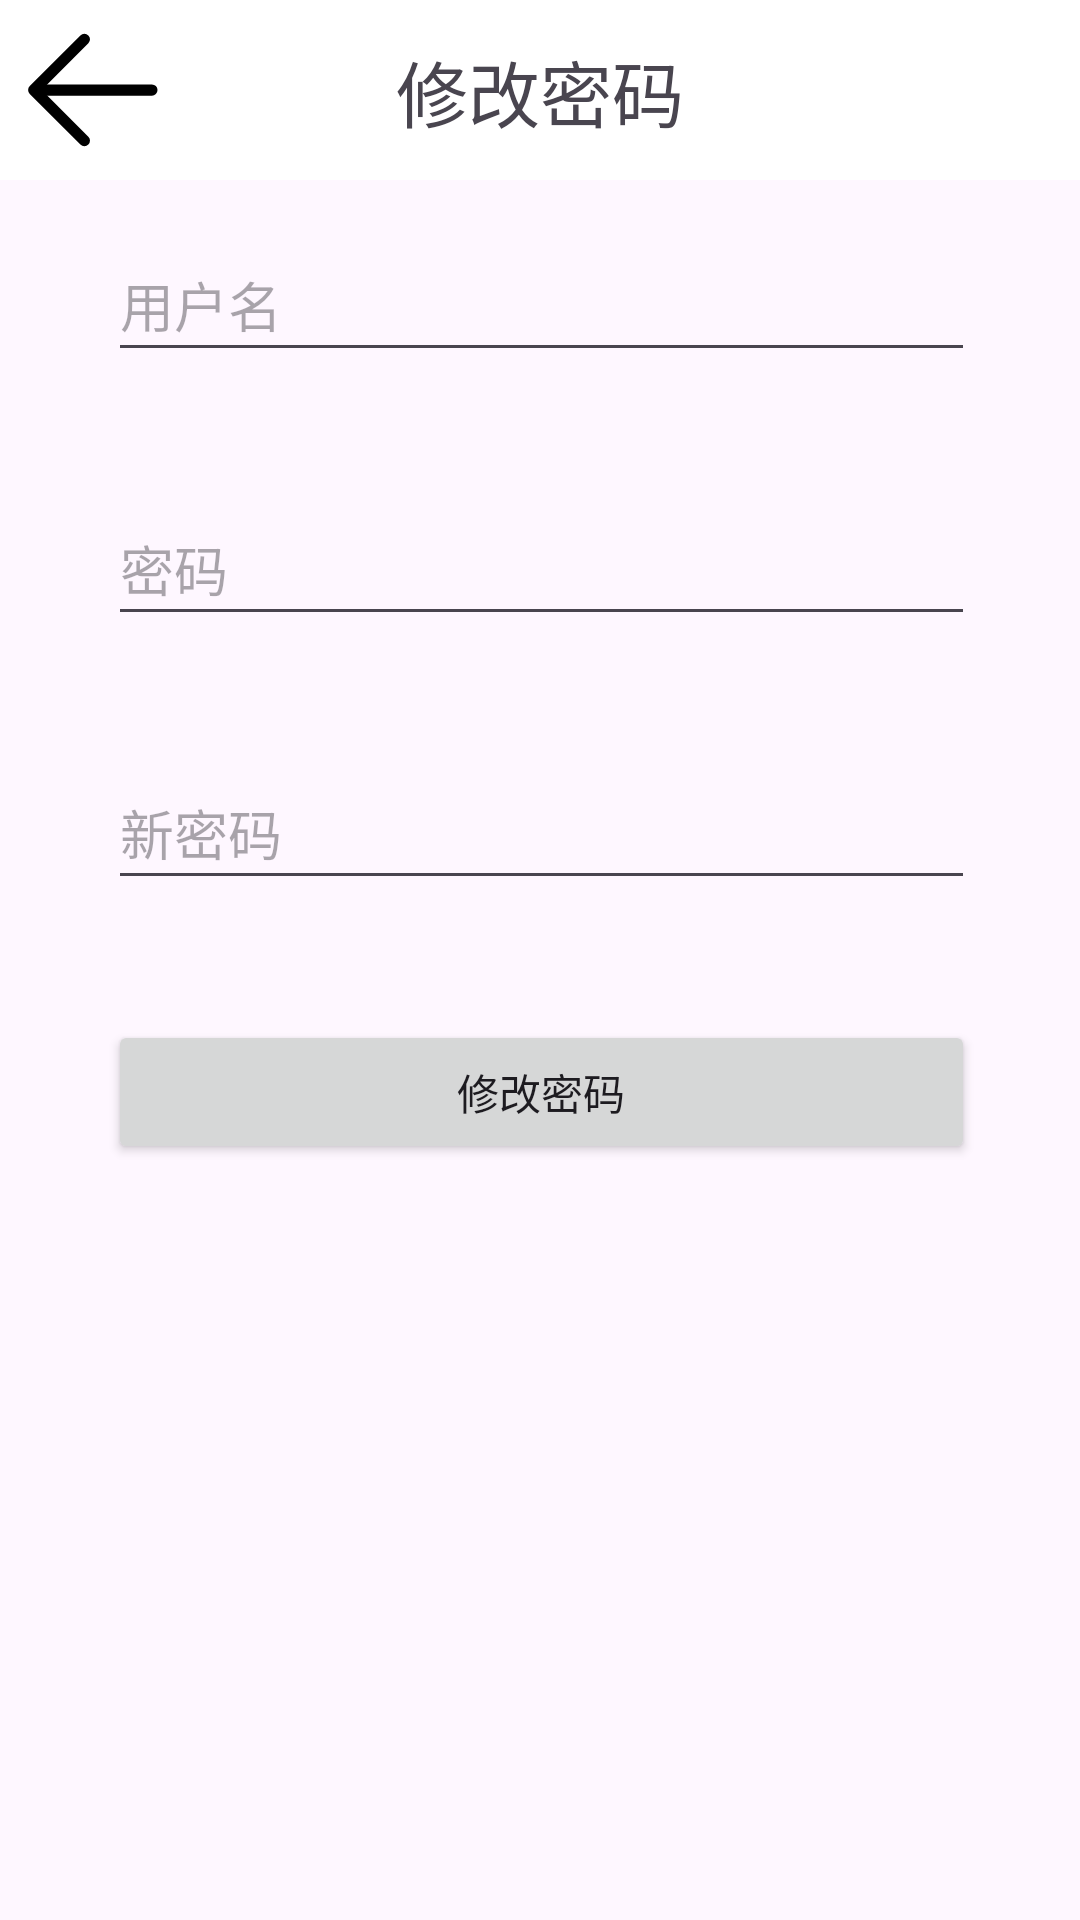

Named icons in this screenshot (1080×1920) and their centers, (x=x, y=y):
back: (x=93, y=90)
